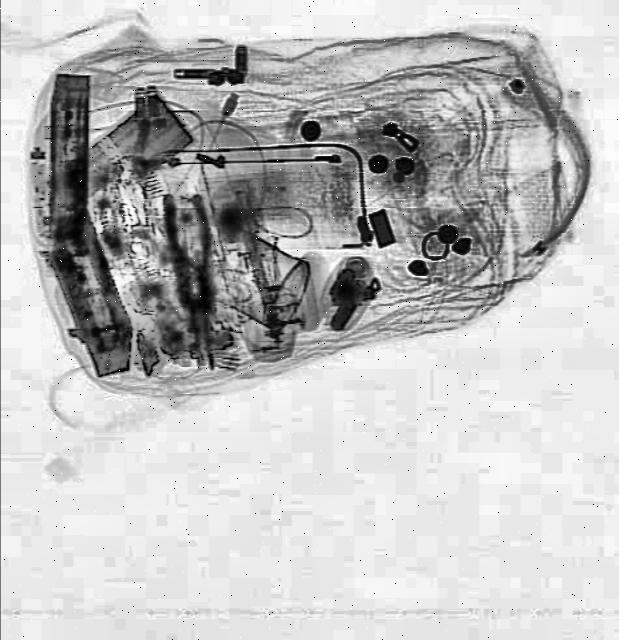Pliers: (156, 194, 226, 374)
